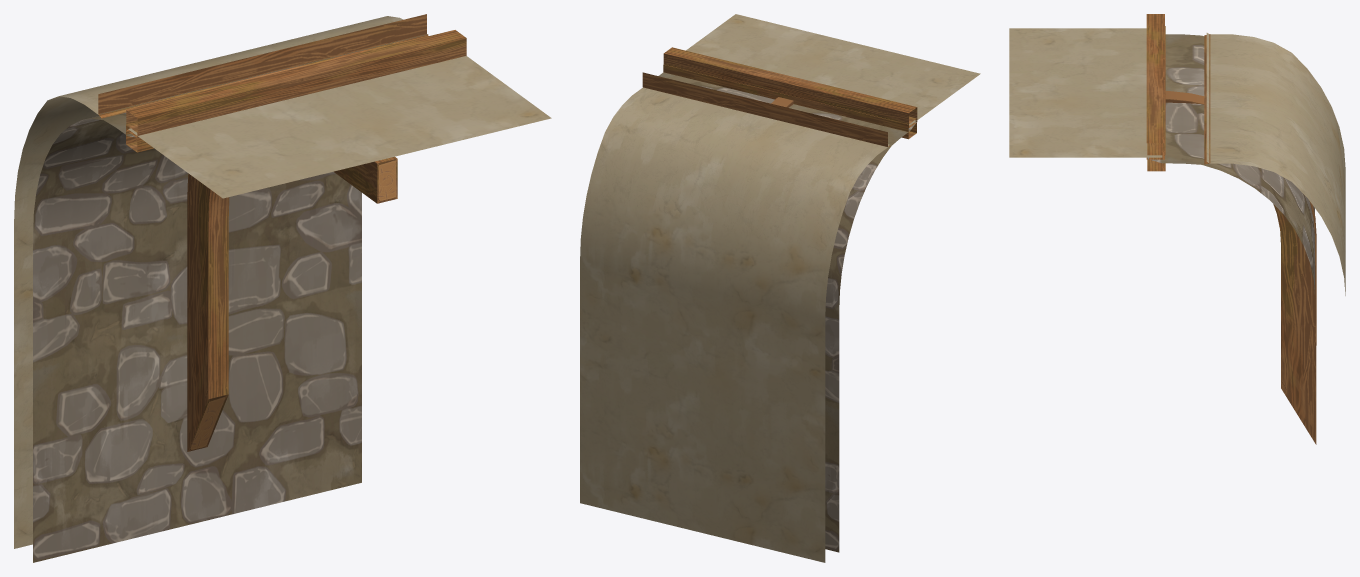
The model's file is Overhang_UnevenBrick_Long.gltf.
The picture shows the model from 3 angles, left to right: view 1: azimuth 30°, elevation 25°; view 2: azimuth 150°, elevation 25°; view 3: azimuth 270°, elevation 25°; orthographic projection. The views are drawn at different scales.
Parts seen in each view (by area): view 1: Overhang_UnevenBrick_Long; view 2: Overhang_UnevenBrick_Long; view 3: Overhang_UnevenBrick_Long.
Part boxes in pixels (x1,y1,x2,y2): Overhang_UnevenBrick_Long: (14, 14, 551, 562); Overhang_UnevenBrick_Long: (580, 14, 980, 562); Overhang_UnevenBrick_Long: (1009, 14, 1345, 444).
Size of the model in its own units: 2 by 3.03 by 2.2.
Materials: 3 (3 with a texture image).
